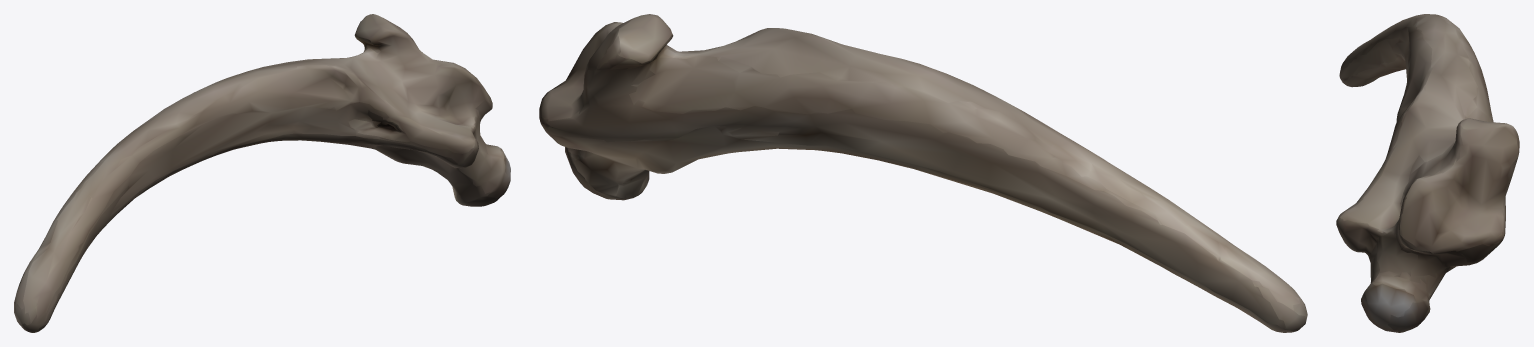
Rendered from whale_bone_mandible.glb.
3 views of the same model, side by side, from view 1: azimuth 30°, elevation 25°; view 2: azimuth 150°, elevation 25°; view 3: azimuth 270°, elevation 25° (orthographic). The views are drawn at different scales.
Visible parts, largest first — view 1: world; view 2: world; view 3: world.
Part boxes in pixels (<box>): world: <box>14,14,510,332</box>; world: <box>539,14,1307,332</box>; world: <box>1336,14,1519,332</box>.
Bounding box in the file's own units: 1 × 0.3166 × 0.2939.
